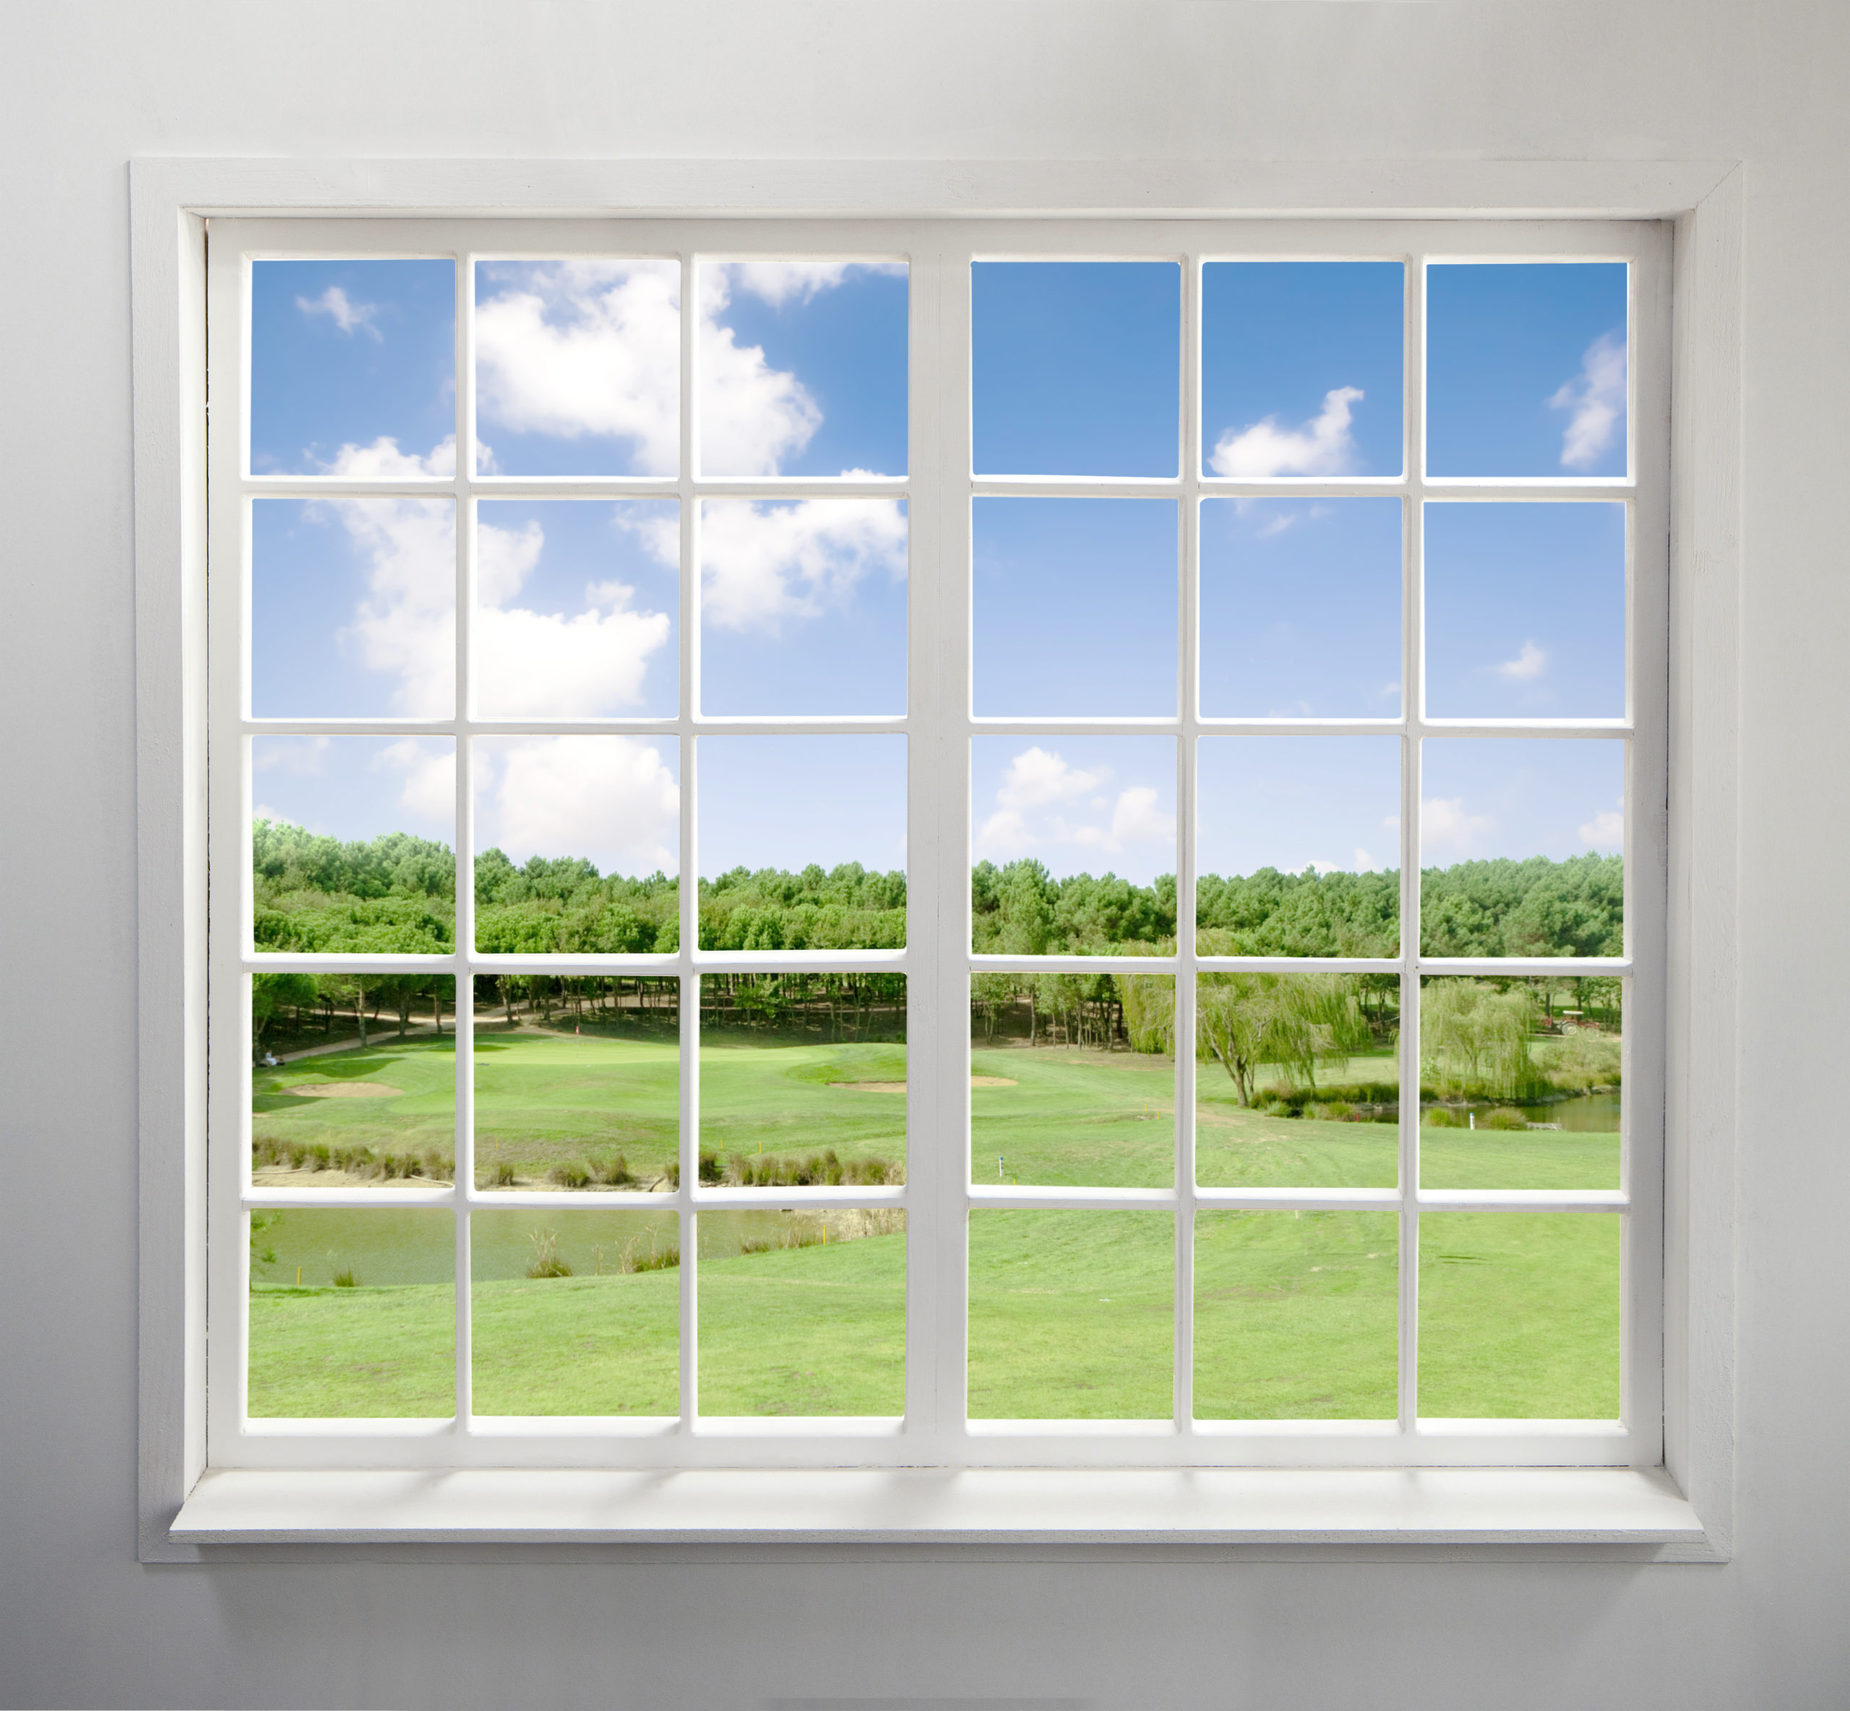Window: (127, 158, 1742, 1548)
